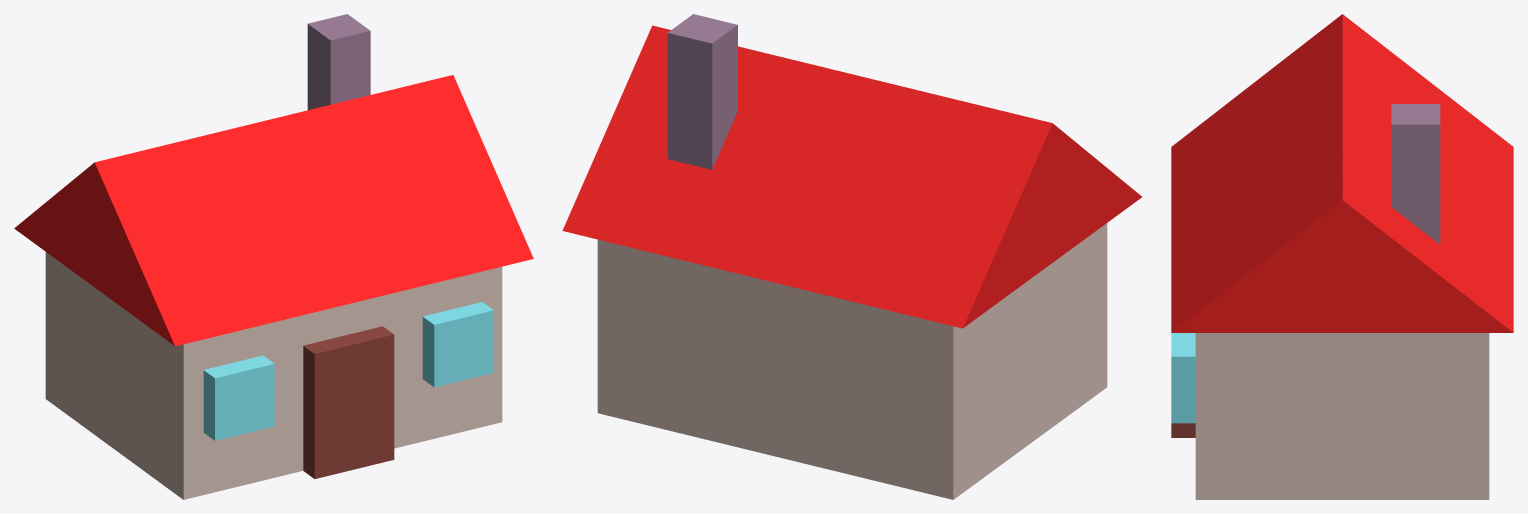
File: casa.glb
3 renders of one model, left to right at view 1: azimuth 30°, elevation 25°; view 2: azimuth 150°, elevation 25°; view 3: azimuth 270°, elevation 25°, orthographic. The views are drawn at different scales.
Parts seen in each view (by area): view 1: telhado-frente, paredes, porta, chamine, janela-esq, janela-dir, telhado-tras; view 2: telhado-tras, paredes, chamine, telhado-frente; view 3: paredes, telhado-frente, telhado-tras, chamine, janela-dir.
Boxes of the visible parts, box(x1,y1,x2,y2) form: telhado-frente: box(94, 75, 533, 346); paredes: box(45, 252, 502, 499); porta: box(303, 326, 394, 478); chamine: box(307, 14, 370, 109); janela-esq: box(203, 355, 274, 440); janela-dir: box(422, 302, 493, 387); telhado-tras: box(14, 162, 94, 286); telhado-tras: box(562, 25, 1052, 328); paredes: box(597, 223, 1107, 499); chamine: box(667, 14, 737, 169); telhado-frente: box(1052, 123, 1141, 262); paredes: box(1195, 333, 1489, 499); telhado-frente: box(1171, 14, 1342, 332); telhado-tras: box(1342, 14, 1513, 332); chamine: box(1391, 104, 1440, 244); janela-dir: box(1171, 333, 1195, 423).
Size of the model in its own units: 9 by 8 by 7.
7 materials, 7 textured.
